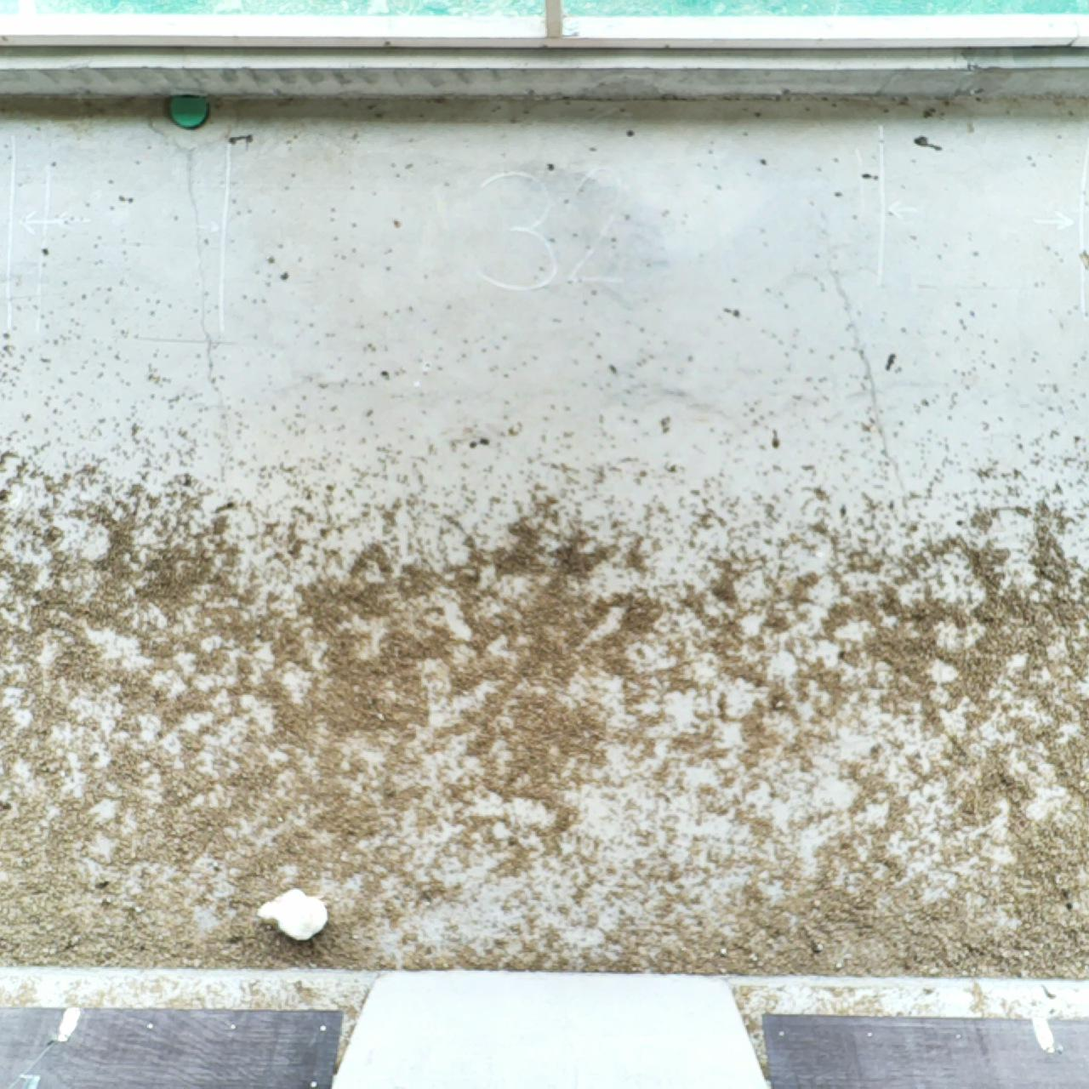chicken: (255, 881, 332, 942)
